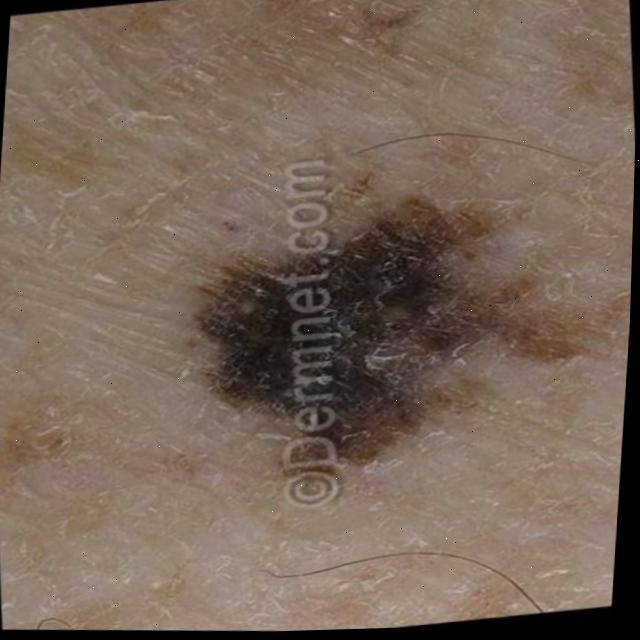Eczema: (226, 204, 525, 441)
